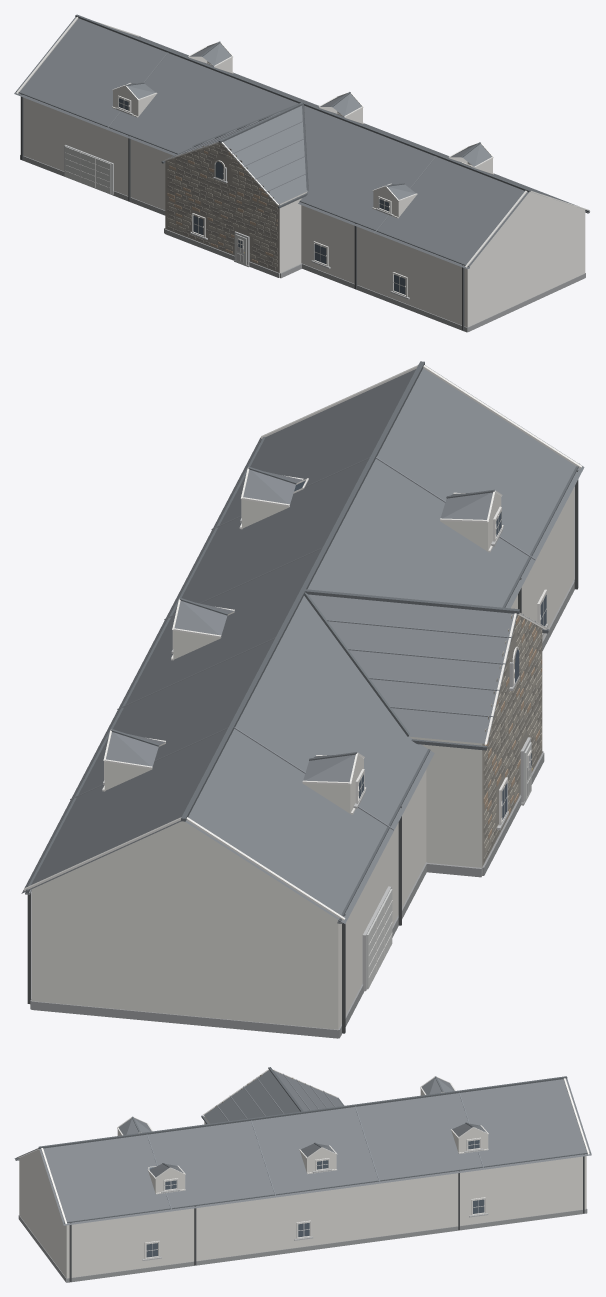
3 renders of one model, top to bottom at view 1: azimuth 30°, elevation 25°; view 2: azimuth 150°, elevation 25°; view 3: azimuth 270°, elevation 25°, orthographic. The views are drawn at different scales.
Parts seen in each view (by area): view 1: slate, harl, rubble, slate_dk, plinth, frame, rubble_dk, rubble_lt, door_cad, slate_lt, rubble_rust, pipe (+1 smaller); view 2: slate, harl, slate_dk, frame, plinth, rubble, slate_lt, rubble_dk, rubble_lt, pipe, door_cad, stone_band (+1 smaller); view 3: slate, harl, slate_dk, plinth, frame, slate_lt, pipe.
Part boxes in pixels (left/top/right/bottom): slate: left=14, top=17, right=564, bottom=269; harl: left=20, top=56, right=585, bottom=327; rubble: left=165, top=143, right=279, bottom=272; slate_dk: left=16, top=14, right=589, bottom=267; plinth: left=20, top=154, right=585, bottom=332; frame: left=16, top=17, right=589, bottom=296; rubble_dk: left=167, top=146, right=277, bottom=269; rubble_lt: left=167, top=142, right=277, bottom=266; door_cad: left=65, top=146, right=246, bottom=265; slate_lt: left=106, top=52, right=497, bottom=232; rubble_rust: left=167, top=150, right=277, bottom=262; pipe: left=21, top=94, right=464, bottom=330; slate: left=21, top=365, right=584, bottom=923; harl: left=31, top=487, right=574, bottom=1029; slate_dk: left=26, top=361, right=579, bottom=922; frame: left=23, top=365, right=581, bottom=977; plinth: left=30, top=579, right=574, bottom=1038; rubble: left=482, top=615, right=542, bottom=866; slate_lt: left=70, top=457, right=541, bottom=830; rubble_dk: left=483, top=613, right=542, bottom=861; rubble_lt: left=483, top=614, right=542, bottom=852; pipe: left=27, top=441, right=578, bottom=1033; door_cad: left=366, top=742, right=531, bottom=989; stone_band: left=103, top=518, right=548, bottom=991; slate: left=14, top=1070, right=591, bottom=1225; harl: left=19, top=1089, right=586, bottom=1278; slate_dk: left=15, top=1067, right=590, bottom=1223; plinth: left=18, top=1209, right=587, bottom=1282; frame: left=17, top=1069, right=589, bottom=1259; slate_lt: left=147, top=1073, right=483, bottom=1210; pipe: left=69, top=1154, right=584, bottom=1281.
Size of the model in its own units: 26.58 by 9.43 by 47.29.
